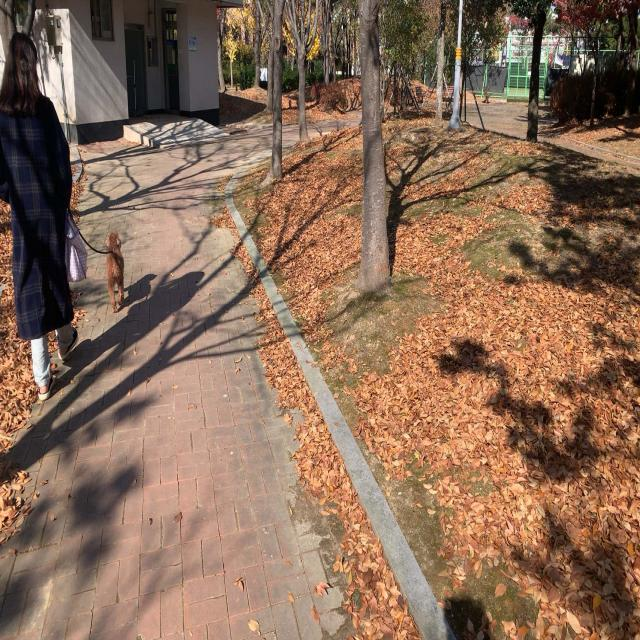Leashed_Dog: (36, 193, 125, 314)
